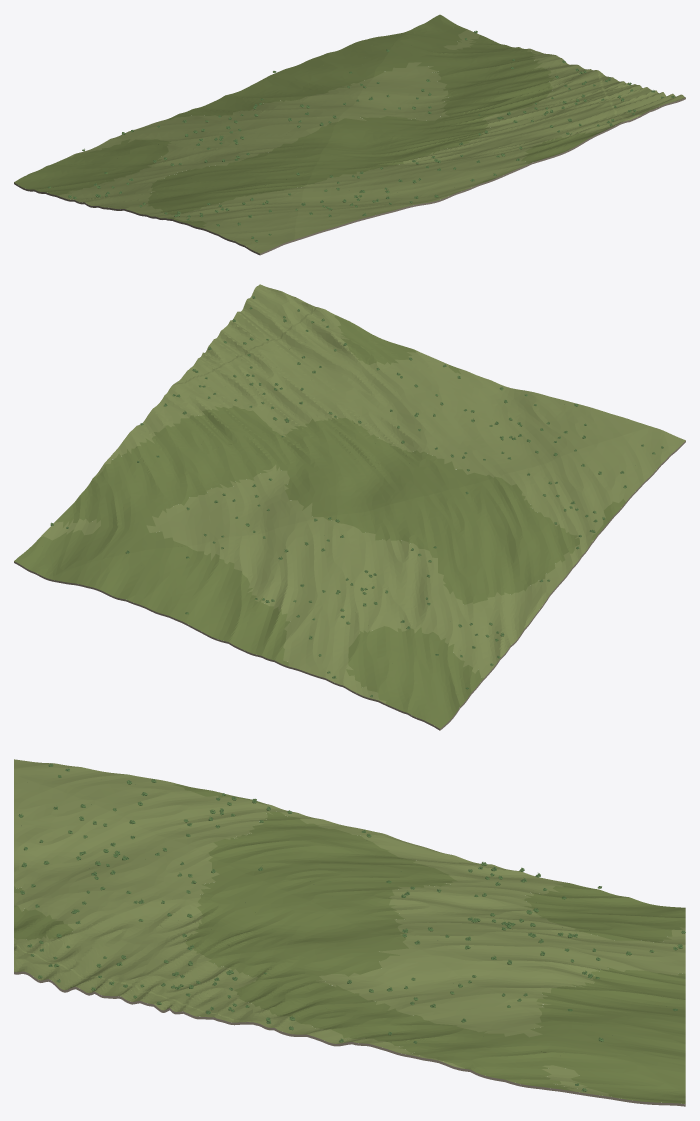
File: parca_+4_-5-yakin.glb
The picture shows the model from 3 angles, top to bottom: view 1: azimuth 30°, elevation 25°; view 2: azimuth 150°, elevation 25°; view 3: azimuth 270°, elevation 25°; orthographic projection. The views are drawn at different scales.
Parts seen in each view (by area): view 1: parca_+4_-5_arazi, parca_+4_-5_bitkiler; view 2: parca_+4_-5_arazi, parca_+4_-5_bitkiler; view 3: parca_+4_-5_arazi, parca_+4_-5_bitkiler.
Boxes of the visible parts, x1=… form: parca_+4_-5_arazi: x1=14, y1=14, x2=685, y2=255; parca_+4_-5_bitkiler: x1=48, y1=30, x2=674, y2=242; parca_+4_-5_arazi: x1=14, y1=284, x2=685, y2=730; parca_+4_-5_bitkiler: x1=50, y1=296, x2=663, y2=696; parca_+4_-5_arazi: x1=14, y1=759, x2=685, y2=1106; parca_+4_-5_bitkiler: x1=18, y1=763, x2=685, y2=1091.
Bounding box in the file's own units: 1003 × 365 × 1001.
